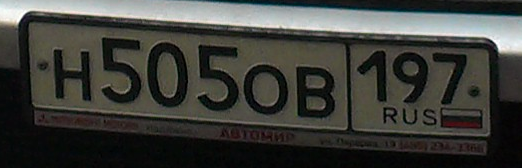character: (192, 37, 242, 119), (99, 32, 147, 110), (144, 37, 193, 112), (292, 58, 340, 125), (50, 44, 97, 111), (242, 56, 291, 118), (391, 43, 432, 108), (429, 44, 470, 108), (355, 46, 390, 106)
